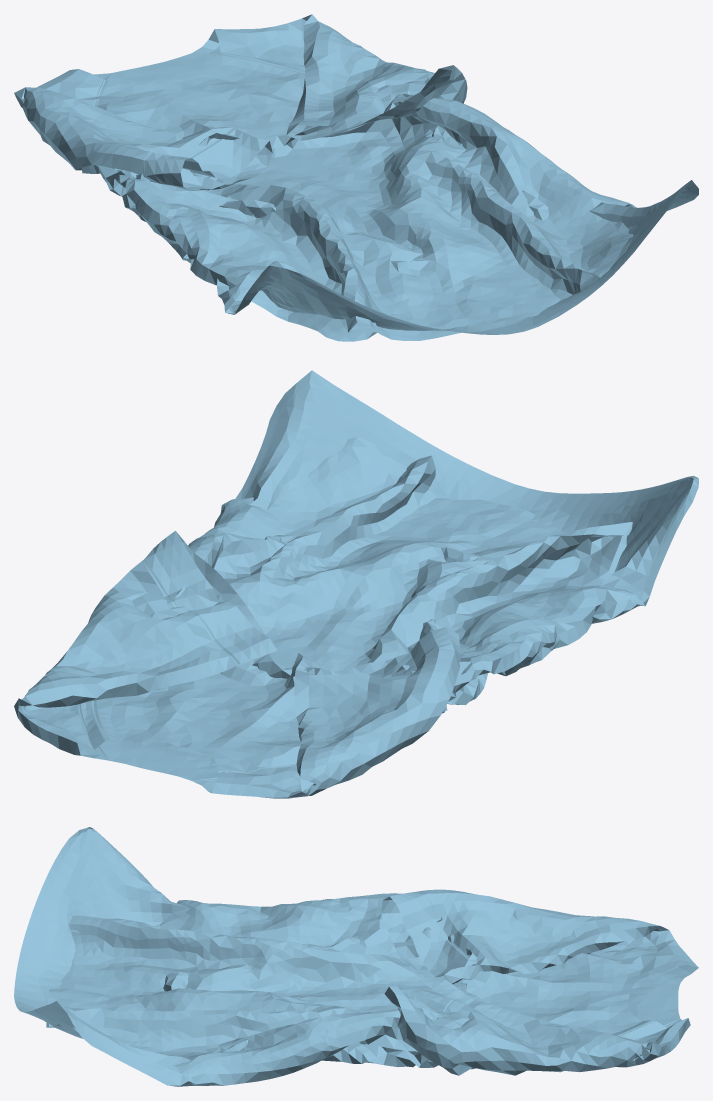
The model's file is frame_02.glb.
3 views of the same model, one above another, from view 1: azimuth 30°, elevation 25°; view 2: azimuth 150°, elevation 25°; view 3: azimuth 270°, elevation 25° (orthographic). The views are drawn at different scales.
Visible parts, largest first — view 1: frame_02.obj; view 2: frame_02.obj; view 3: frame_02.obj.
Boxes of the visible parts, x1,y1,x2,y2 form: frame_02.obj: (14, 14, 698, 341); frame_02.obj: (14, 370, 698, 798); frame_02.obj: (14, 827, 698, 1086).
Size of the model in its own units: 1.16 by 0.2725 by 1.82.
